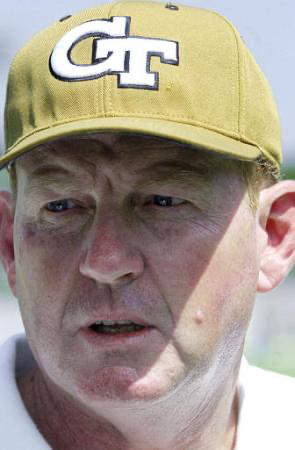Face: (7, 168, 247, 431)
